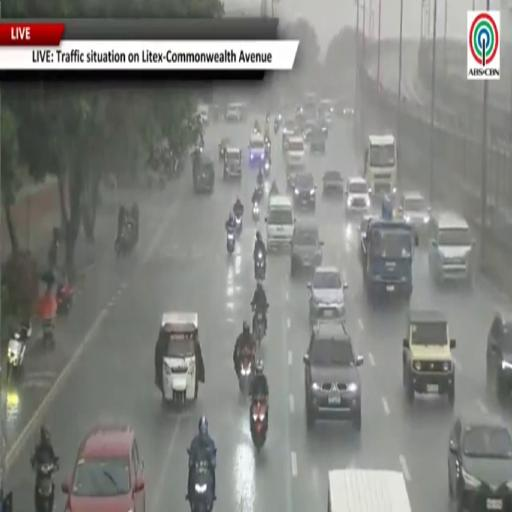car: (62, 425, 145, 511), (304, 322, 363, 431), (448, 414, 511, 511), (403, 310, 455, 406), (429, 213, 475, 285), (307, 266, 347, 325), (486, 311, 512, 399), (291, 220, 323, 277), (399, 191, 431, 236), (346, 178, 371, 214), (294, 172, 315, 211), (358, 215, 377, 257), (224, 148, 242, 180), (323, 170, 344, 195), (309, 126, 326, 154), (282, 119, 296, 150), (319, 99, 334, 123), (225, 103, 243, 122), (302, 120, 316, 142), (286, 170, 300, 190), (198, 104, 209, 126), (219, 137, 229, 161), (318, 118, 329, 138), (342, 107, 354, 117)
motorcycle: (188, 460, 214, 511), (36, 458, 58, 511), (6, 333, 26, 381), (251, 397, 267, 452), (115, 223, 136, 257), (239, 350, 254, 396), (56, 282, 74, 315), (253, 309, 264, 346), (42, 318, 55, 347), (255, 251, 266, 281), (227, 230, 235, 254), (255, 183, 264, 202), (234, 214, 242, 235), (252, 202, 260, 221), (264, 159, 270, 177), (269, 187, 279, 197), (274, 121, 278, 134)
truck: (361, 219, 417, 298), (328, 469, 411, 511), (363, 134, 396, 197), (193, 152, 214, 194)
